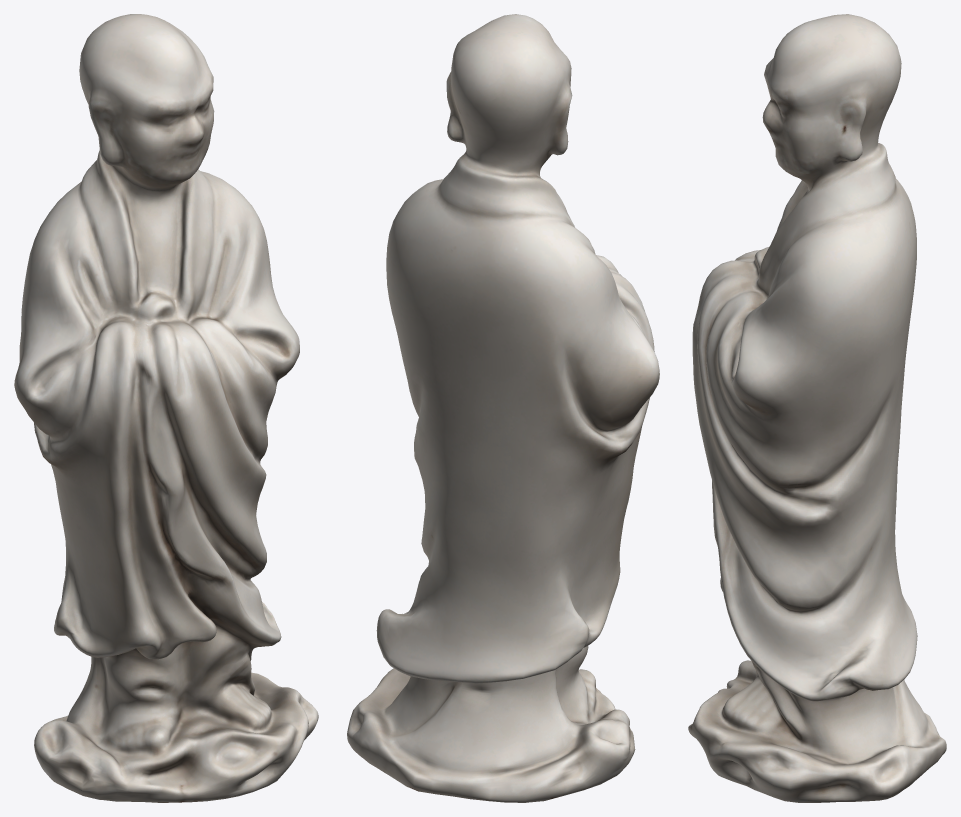
3 views of the same model, side by side, from view 1: azimuth 30°, elevation 25°; view 2: azimuth 150°, elevation 25°; view 3: azimuth 270°, elevation 25° (orthographic). The views are drawn at different scales.
Visible parts, largest first — view 1: objSZB_lhf_131; view 2: objSZB_lhf_131; view 3: objSZB_lhf_131.
Boxes of the visible parts, x1=… form: objSZB_lhf_131: x1=14, y1=14, x2=318, y2=802; objSZB_lhf_131: x1=347, y1=14, x2=659, y2=802; objSZB_lhf_131: x1=688, y1=14, x2=946, y2=802.
Size of the model in its own units: 50.64 by 126 by 40.75.
